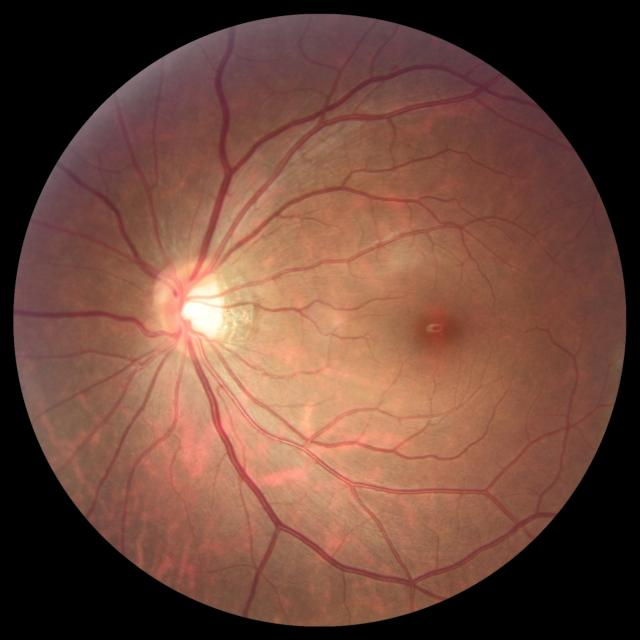OC: (179, 282, 224, 336)
OD: (151, 257, 226, 358)
